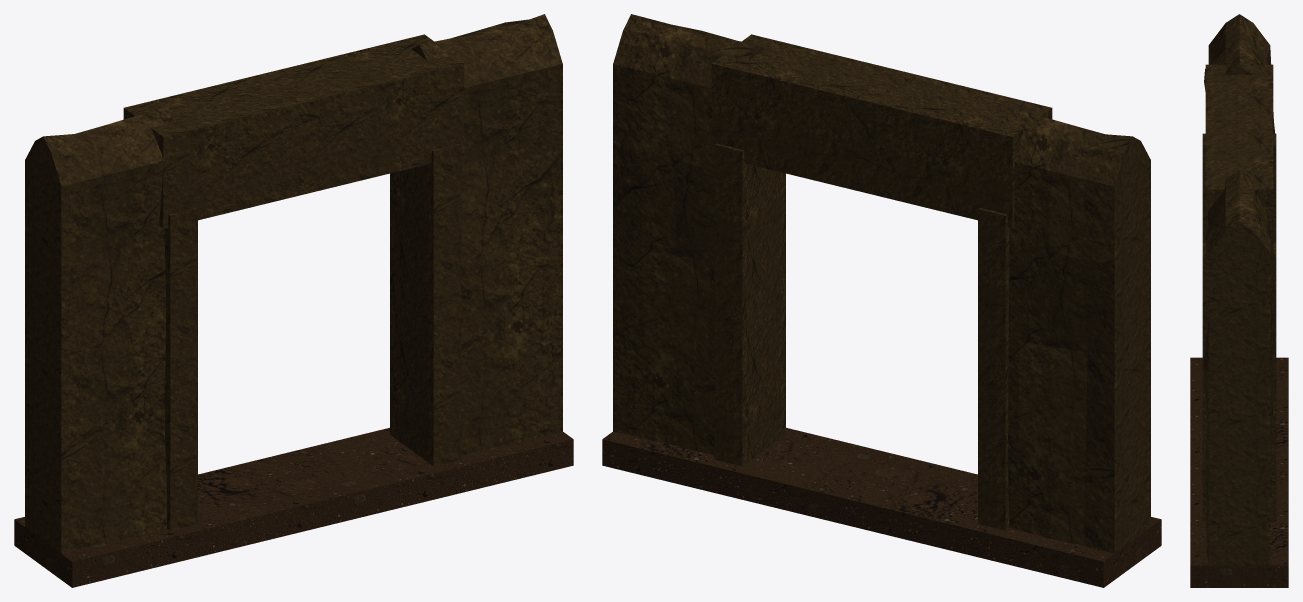
Rendered from cave_gate_01_dirt_real.glb.
The picture shows the model from 3 angles, left to right: view 1: azimuth 30°, elevation 25°; view 2: azimuth 150°, elevation 25°; view 3: azimuth 270°, elevation 25°; orthographic projection. The views are drawn at different scales.
Visible parts, largest first — view 1: cave_gate_01_dirt; view 2: cave_gate_01_dirt; view 3: cave_gate_01_dirt.
Boxes of the visible parts, x1,y1,x2,y2 form: cave_gate_01_dirt: (14, 14, 573, 587); cave_gate_01_dirt: (602, 14, 1161, 587); cave_gate_01_dirt: (1190, 14, 1288, 587).
Bounding box in the file's own units: 4 × 3.28 × 0.8.
Materials: 2 (2 with a texture image).
